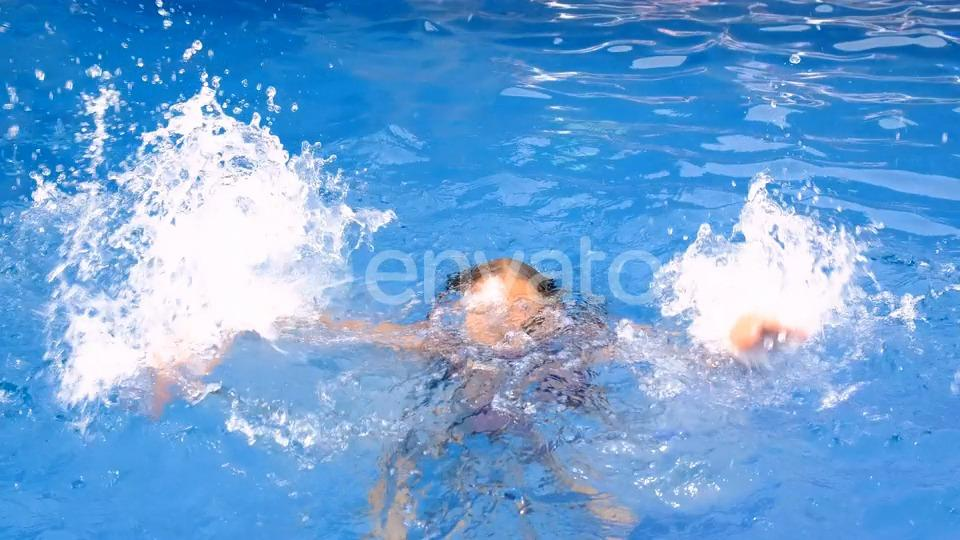Drowning: (102, 102, 835, 458)
